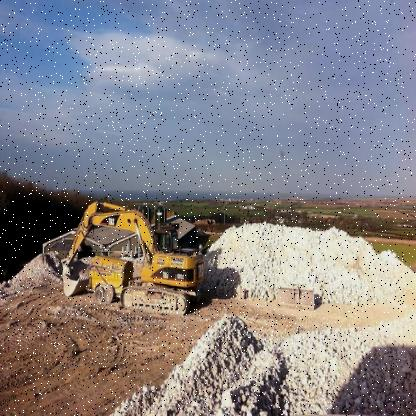excavator: (50, 199, 198, 316)
